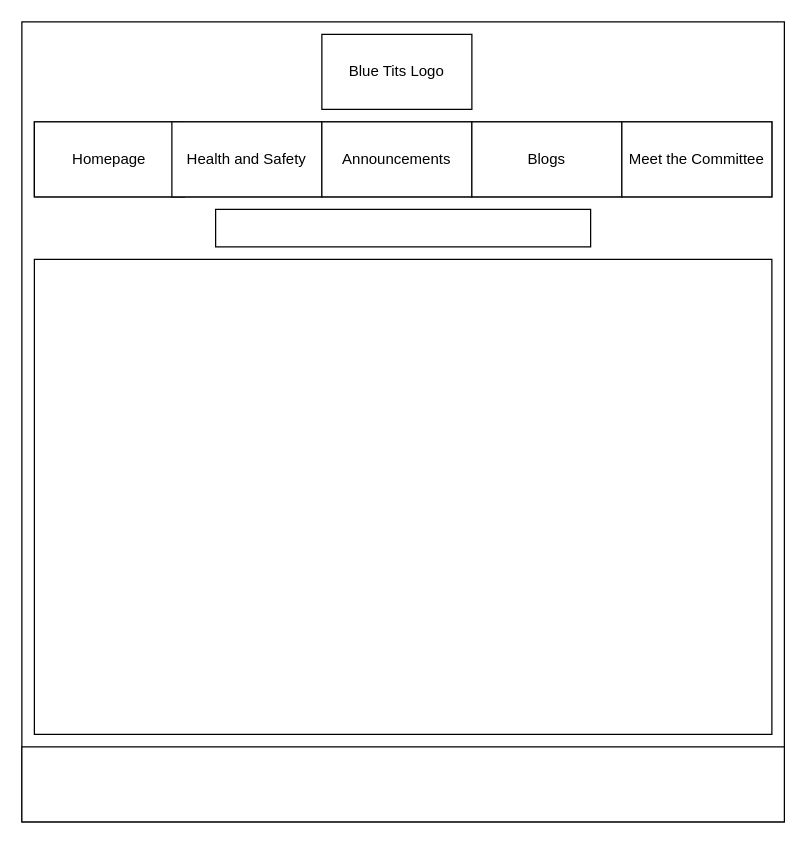
This 806x844 diagram has some shape labels left out. Here are the shapes that lost their labels. From the top down, the centre of each, then its label:
At (402,227): "Title of Page".
At (402,496): "Page Content Here".
At (402,784): "Footer to contain contact information such as Instagram/Whatsapp/Email".
